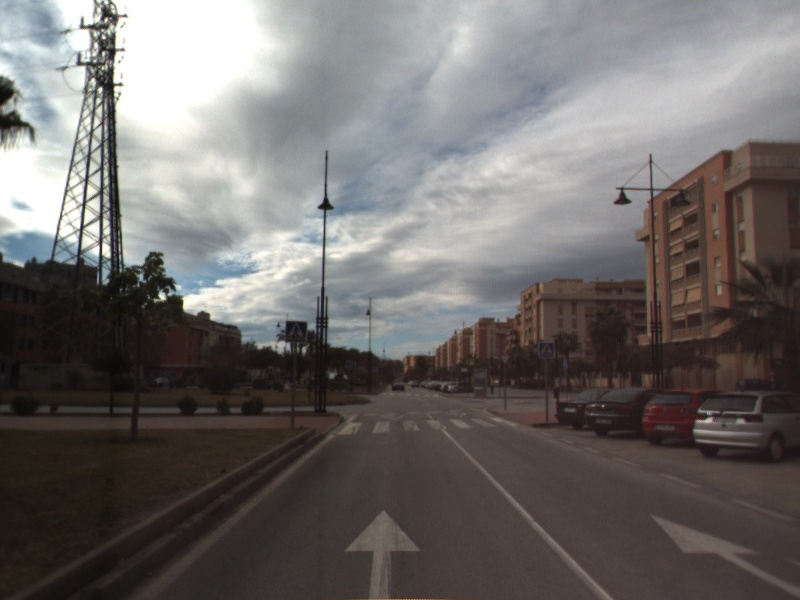STRAIGHT: (648, 512, 800, 599), (342, 508, 422, 600)
